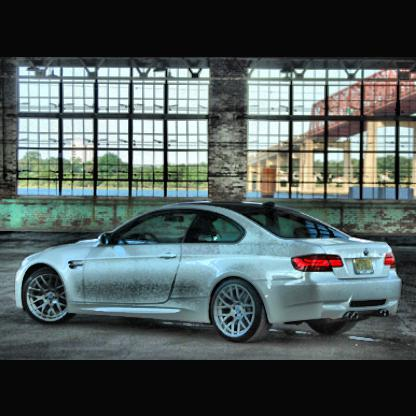BMW M3 Coupe 2012: (17, 203, 404, 346)
